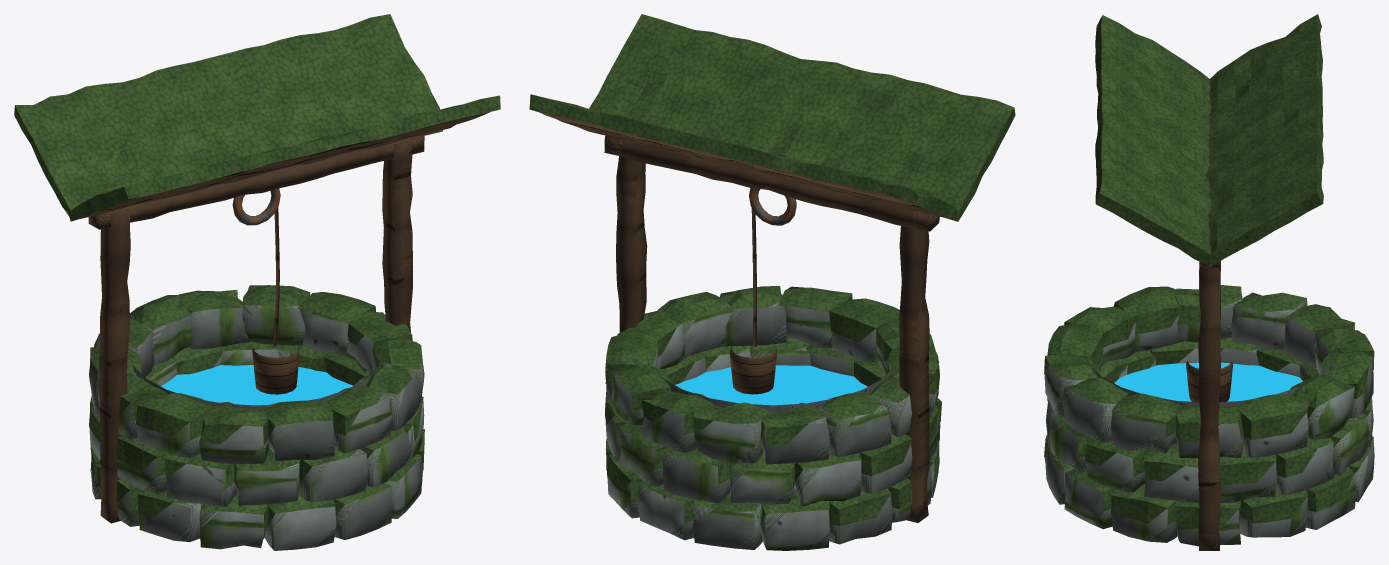
File: mossy_wishing_well.glb
3 renders of one model, left to right at view 1: azimuth 30°, elevation 25°; view 2: azimuth 150°, elevation 25°; view 3: azimuth 270°, elevation 25°, orthographic.
Parts seen in each view (by area): view 1: mossy_wishing_well__moss, mossy_wishing_well__stone_wall, mossy_wishing_well__wood_dark, mossy_wishing_well__wood, mossy_wishing_well__water_glow, mossy_wishing_well__stone_dark, mossy_wishing_well__iron; view 2: mossy_wishing_well__moss, mossy_wishing_well__stone_wall, mossy_wishing_well__wood_dark, mossy_wishing_well__wood, mossy_wishing_well__water_glow, mossy_wishing_well__stone_dark, mossy_wishing_well__iron; view 3: mossy_wishing_well__moss, mossy_wishing_well__stone_wall, mossy_wishing_well__wood_dark, mossy_wishing_well__water_glow, mossy_wishing_well__wood, mossy_wishing_well__stone_dark.
Part boxes in pixels (x1=…): mossy_wishing_well__moss: x1=14, y1=14, x2=500, y2=533; mossy_wishing_well__stone_wall: x1=89, y1=305, x2=424, y2=550; mossy_wishing_well__wood_dark: x1=88, y1=135, x2=424, y2=523; mossy_wishing_well__wood: x1=64, y1=112, x2=489, y2=394; mossy_wishing_well__water_glow: x1=161, y1=365, x2=353, y2=405; mossy_wishing_well__stone_dark: x1=131, y1=353, x2=383, y2=409; mossy_wishing_well__iron: x1=232, y1=188, x2=280, y2=225; mossy_wishing_well__moss: x1=529, y1=14, x2=1015, y2=526; mossy_wishing_well__stone_wall: x1=605, y1=286, x2=940, y2=550; mossy_wishing_well__wood_dark: x1=604, y1=135, x2=939, y2=522; mossy_wishing_well__wood: x1=540, y1=112, x2=957, y2=394; mossy_wishing_well__water_glow: x1=675, y1=365, x2=867, y2=405; mossy_wishing_well__stone_dark: x1=646, y1=354, x2=899, y2=495; mossy_wishing_well__iron: x1=749, y1=188, x2=796, y2=225; mossy_wishing_well__moss: x1=1044, y1=14, x2=1374, y2=527; mossy_wishing_well__stone_wall: x1=1044, y1=292, x2=1374, y2=546; mossy_wishing_well__wood_dark: x1=1198, y1=261, x2=1220, y2=550; mossy_wishing_well__water_glow: x1=1114, y1=362, x2=1302, y2=401; mossy_wishing_well__wood: x1=1186, y1=361, x2=1232, y2=401; mossy_wishing_well__stone_dark: x1=1084, y1=350, x2=1334, y2=406.
Bounding box in the file's own units: 2.53 × 2.47 × 1.96.
Materials: 7 (6 with a texture image).
